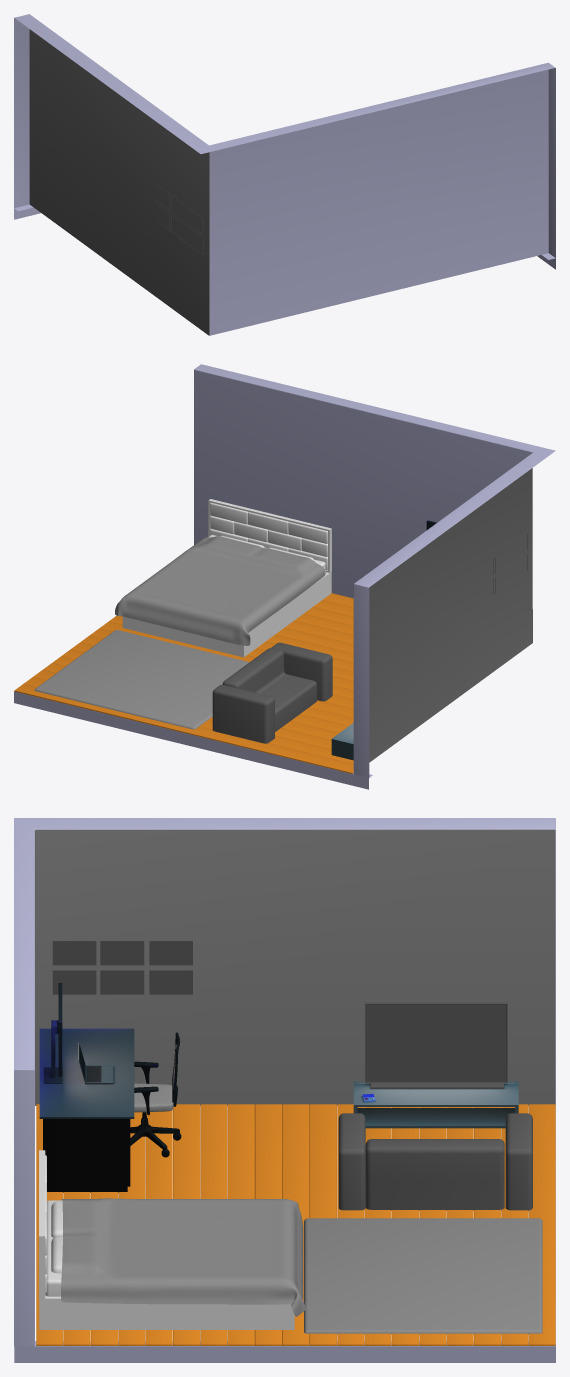
The model's file is working_room.glb.
The picture shows the model from 3 angles, top to bottom: view 1: azimuth 30°, elevation 25°; view 2: azimuth 150°, elevation 25°; view 3: azimuth 270°, elevation 25°; orthographic projection. The views are drawn at different scales.
Visible parts, largest first — view 1: walls, floor; view 2: walls, Plane.002, woods, carpet, sofa, floor, bed_main, top, tv_stand, top_item.003, top_item.009, top_item; view 3: walls, woods, carpet, Plane.002, sofa, tv, floor, desk.006, bed_main, tv_stand, desk.005, frame.002 (+11 smaller).
Part boxes in pixels (x1,y1,x2,y2): walls: [14, 14, 555, 335]; floor: [14, 204, 555, 269]; walls: [194, 364, 555, 777]; Plane.002: [115, 536, 325, 645]; woods: [14, 593, 353, 773]; carpet: [34, 630, 249, 729]; sofa: [212, 642, 332, 743]; floor: [14, 691, 372, 789]; bed_main: [122, 572, 331, 657]; top: [208, 499, 331, 572]; tv_stand: [331, 723, 353, 760]; top_item.003: [247, 512, 288, 534]; top_item.009: [288, 522, 327, 543]; top_item: [210, 503, 248, 524]; walls: [14, 818, 555, 1346]; woods: [36, 1104, 555, 1345]; carpet: [304, 1218, 542, 1334]; Plane.002: [61, 1198, 306, 1316]; sofa: [338, 1113, 532, 1210]; tv: [365, 1002, 507, 1082]; floor: [14, 1106, 555, 1362]; desk.006: [39, 1028, 134, 1118]; bed_main: [39, 1295, 294, 1329]; tv_stand: [353, 1081, 518, 1128]; desk.005: [43, 1119, 127, 1192]; frame.002: [52, 941, 96, 965].
Size of the model in its own units: 2.84 by 1.55 by 2.59.
21 materials, 7 textured.
